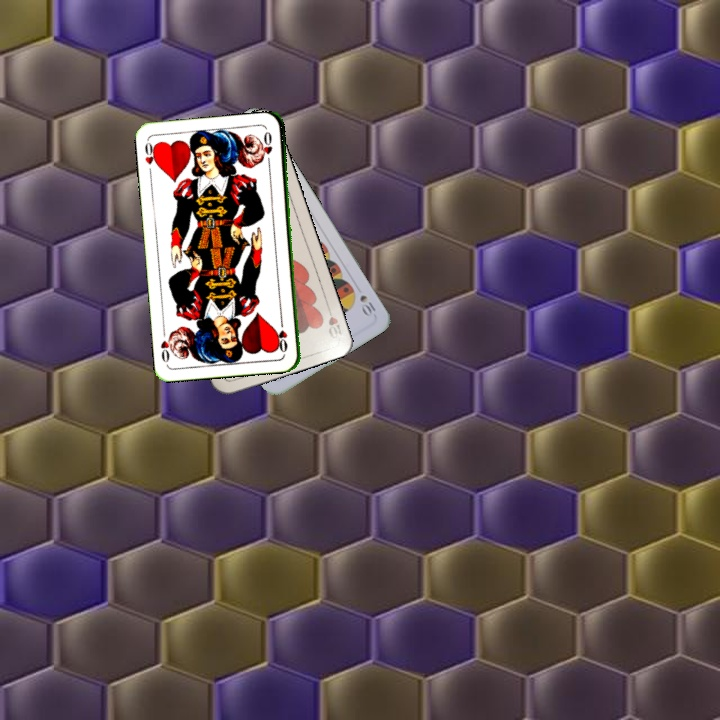H10: (323, 301, 346, 342)
HO: (141, 137, 161, 169), (276, 315, 290, 355)
S10: (356, 291, 378, 319)
